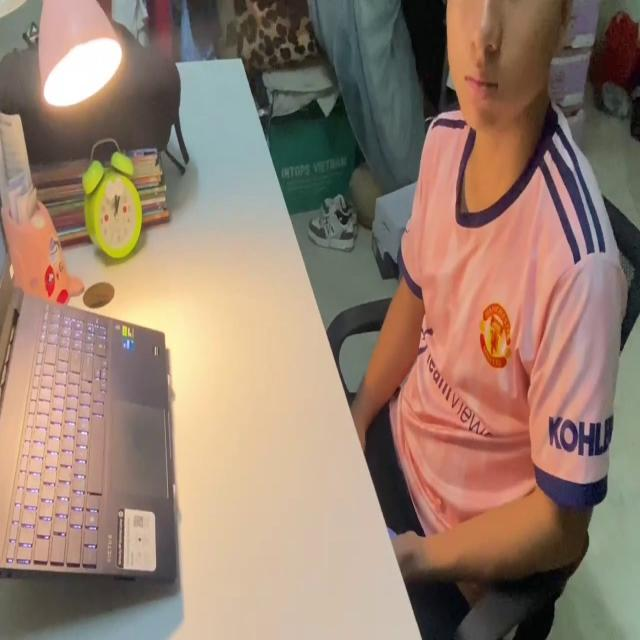laptop: (0, 205, 181, 590)
student: (346, 0, 627, 586)
